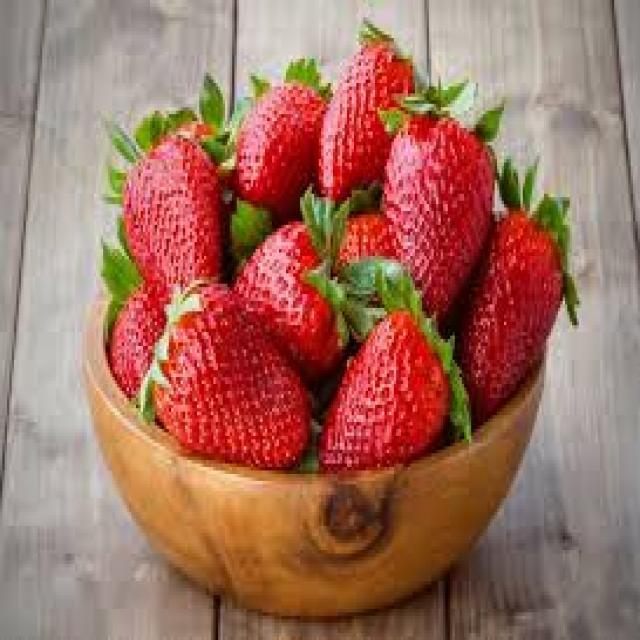Fruta sana: (170, 273, 310, 467), (378, 85, 499, 308), (319, 299, 455, 469), (466, 183, 566, 400), (114, 132, 228, 310), (233, 199, 349, 372), (318, 19, 412, 204), (232, 67, 328, 206), (90, 278, 180, 392)
